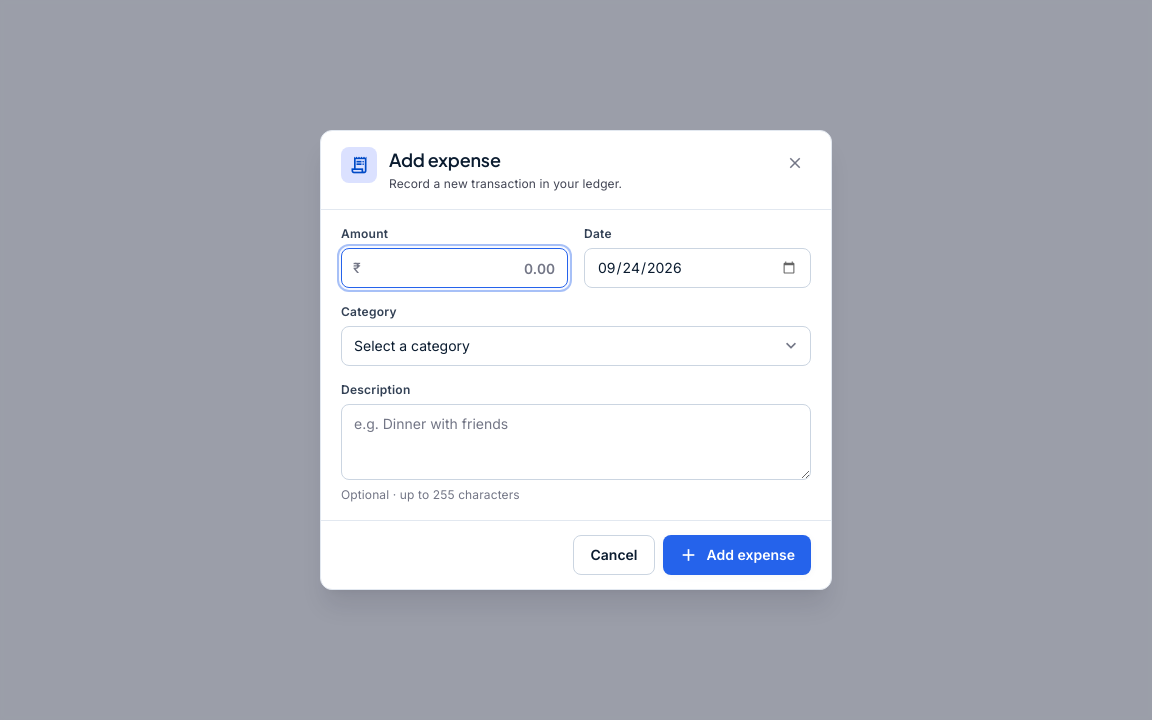
ExpenseFormModal › submits a valid expense with the API shape and closes
The image size is (1152, 720).
In the field labelled "Amount": (454, 268) [341,248,568,288], type "1234.5"
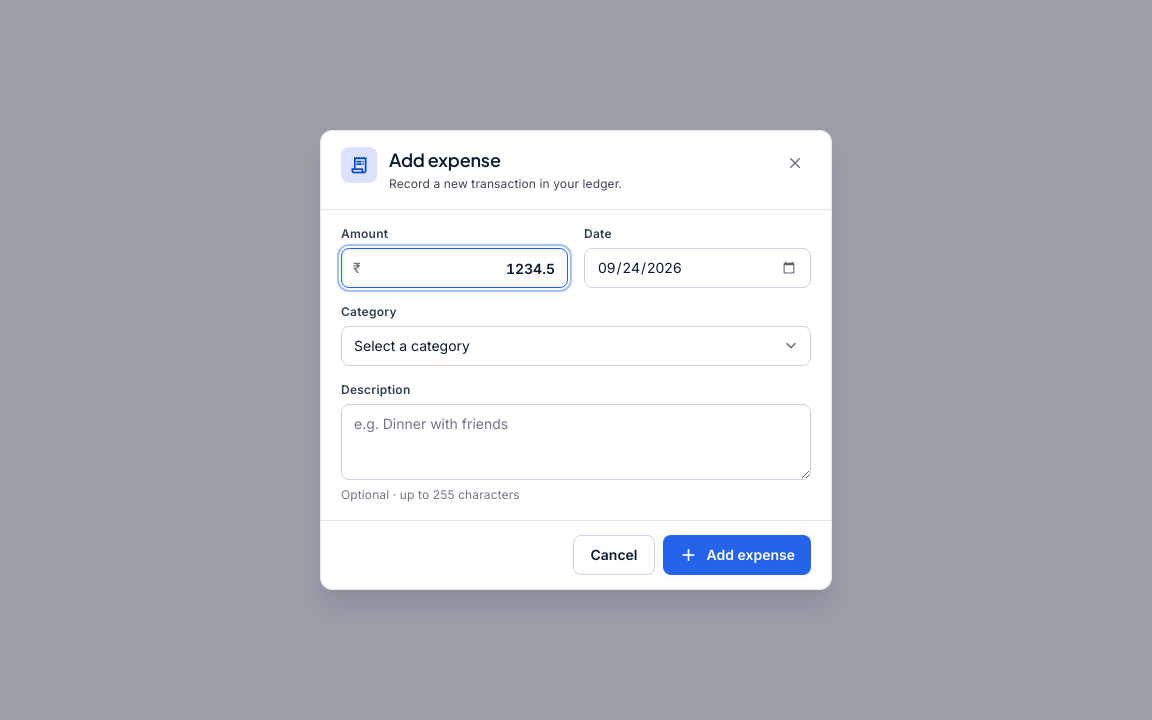
Select "Food" in the dropdown labelled "Category": (576, 346) [341,326,811,366]
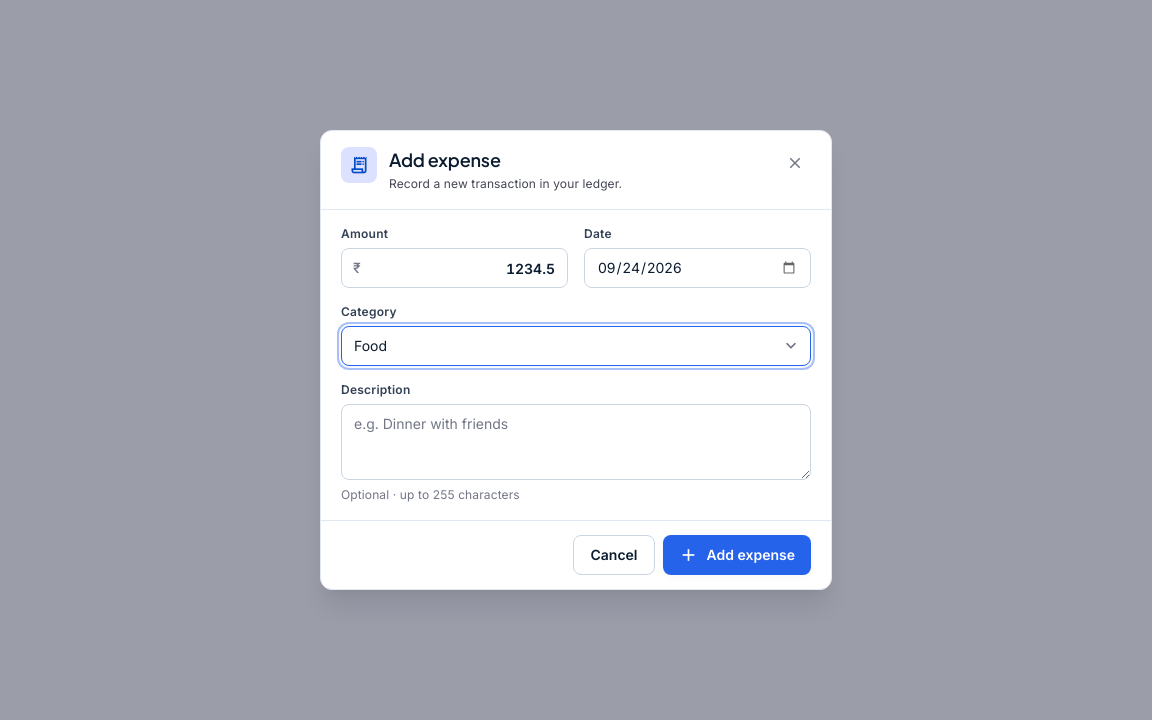
In the text box labelled "Description": (576, 442) [341,404,811,480], type "  Lunch  "
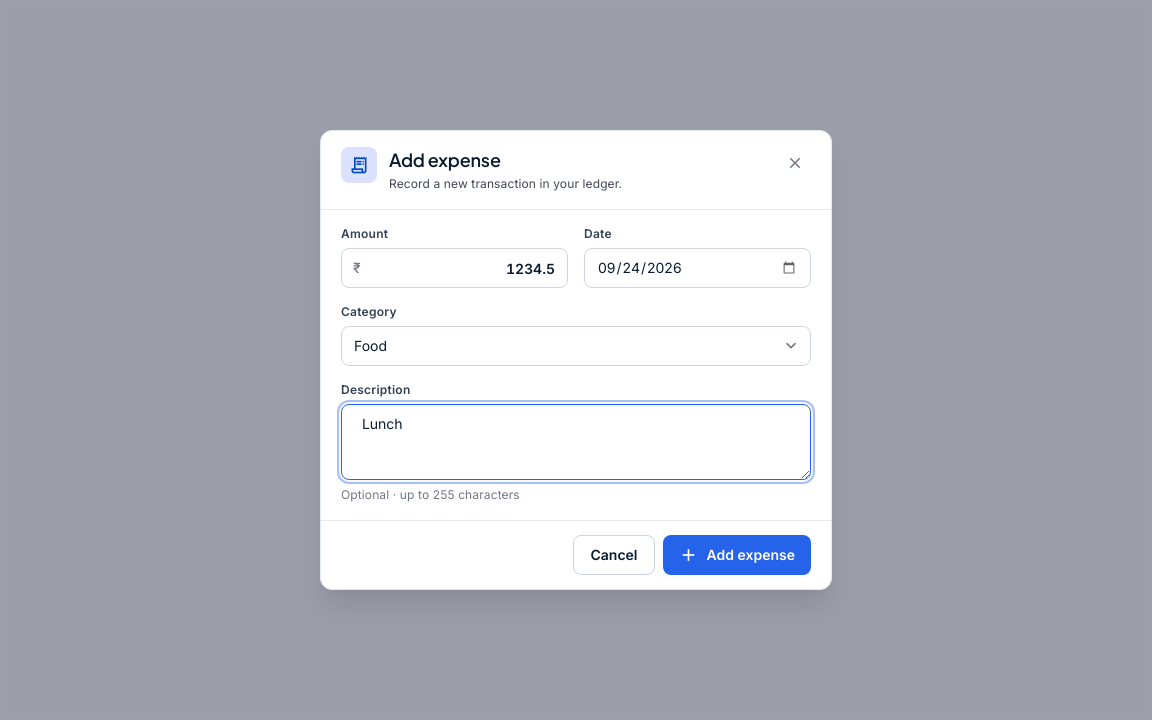
Click the button "Add expense": (737, 555) [662,535,811,575]
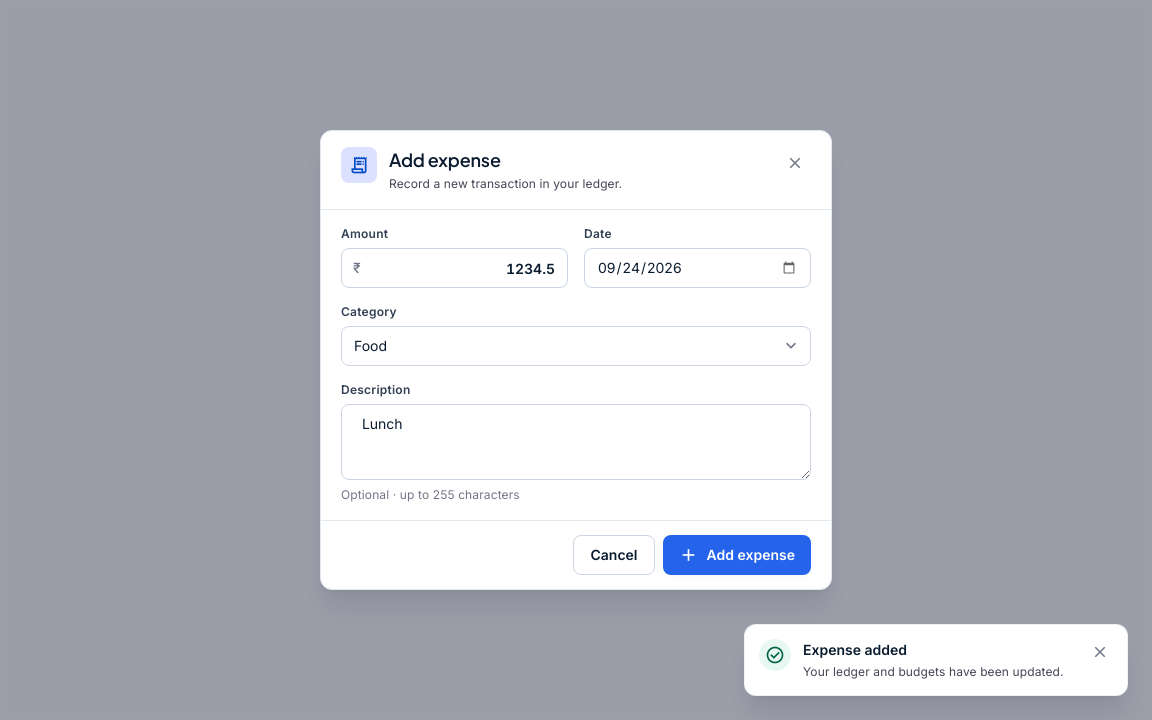
expect the text "Expense added" is shown: met, box [803,641,907,658]
